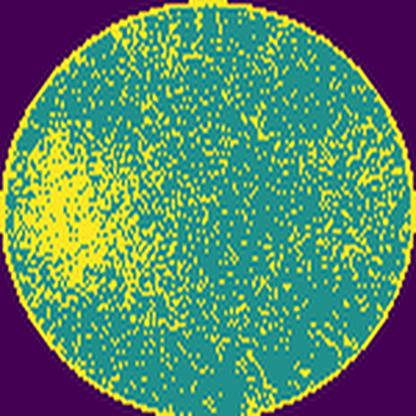Random: (17, 12, 405, 404)
